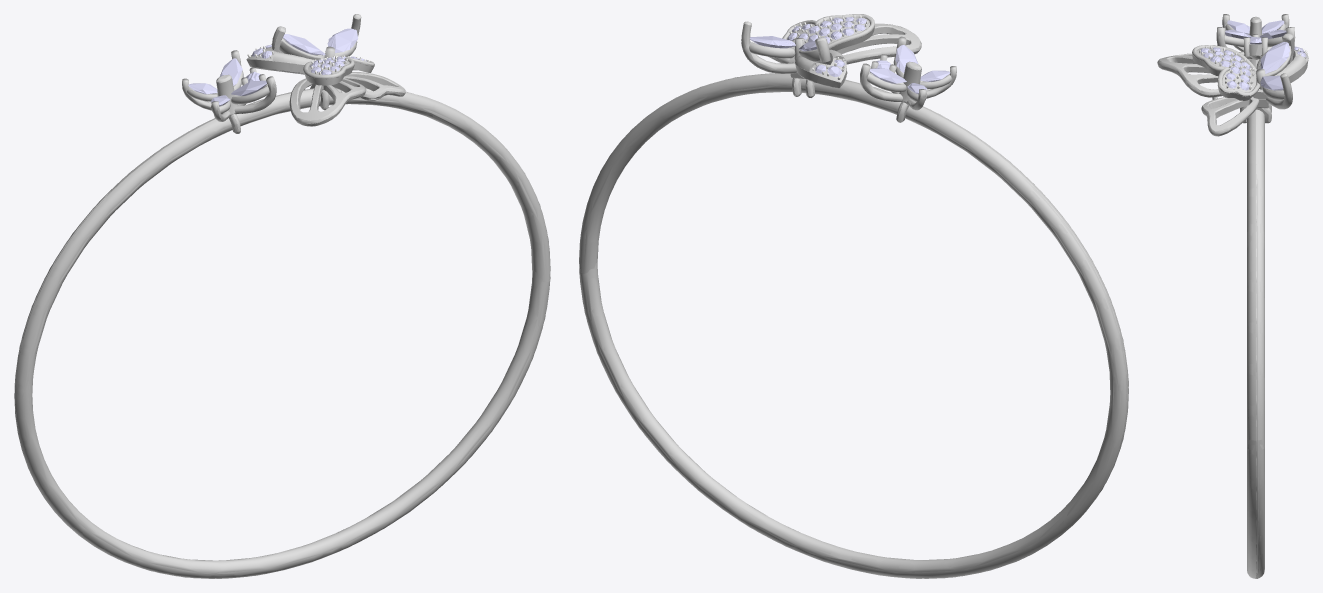
Rendered from DNB-D000683167.glb.
3 renders of one model, left to right at view 1: azimuth 30°, elevation 25°; view 2: azimuth 150°, elevation 25°; view 3: azimuth 270°, elevation 25°, orthographic. The views are drawn at different scales.
Parts seen in each view (by area): view 1: highPolyMesh, lowPolyMesh; view 2: highPolyMesh, lowPolyMesh; view 3: highPolyMesh, lowPolyMesh.
Part boxes in pixels (left/top/right/bottom): highPolyMesh: left=14, top=14, right=550, bottom=578; lowPolyMesh: left=14, top=14, right=550, bottom=578; highPolyMesh: left=579, top=14, right=1128, bottom=578; lowPolyMesh: left=579, top=14, right=1128, bottom=578; highPolyMesh: left=1157, top=14, right=1308, bottom=578; lowPolyMesh: left=1157, top=14, right=1308, bottom=578.
Bounding box in the file's own units: 0.0608 × 0.0573 × 0.0151.
